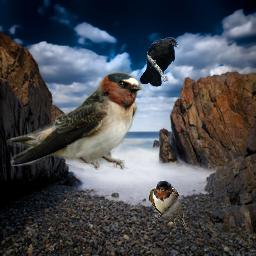Crow: (139, 37, 179, 87)
Swallow: (7, 68, 147, 171), (149, 180, 187, 230)
